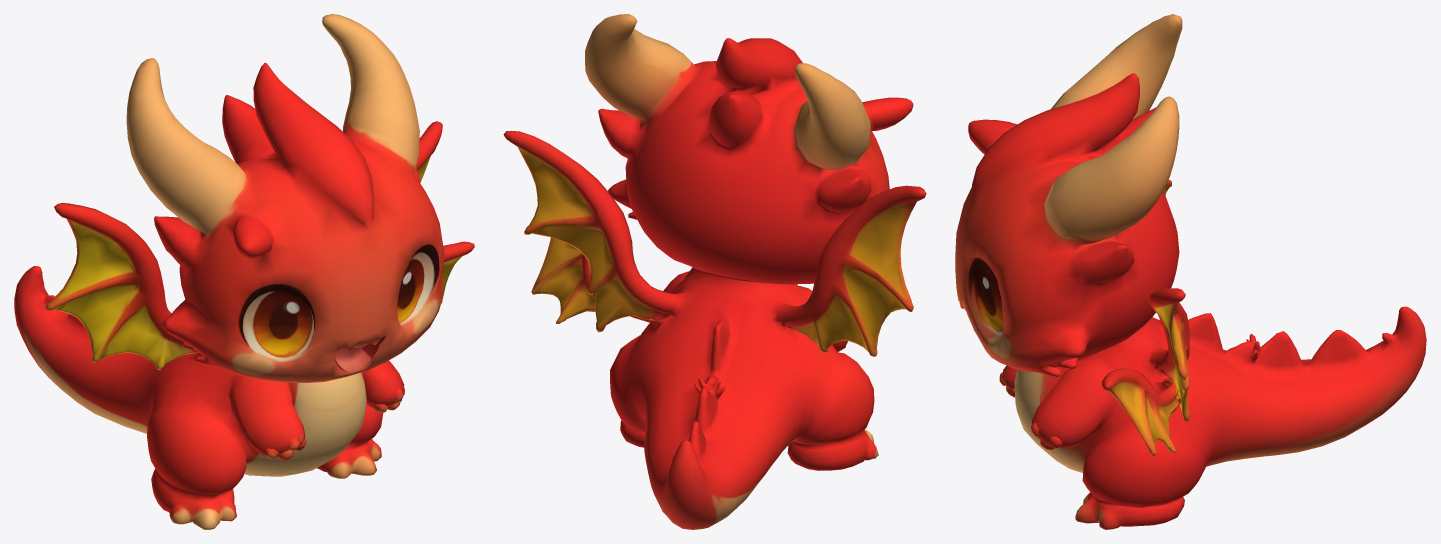
The model's file is avatar1.glb.
3 renders of one model, left to right at view 1: azimuth 30°, elevation 25°; view 2: azimuth 150°, elevation 25°; view 3: azimuth 270°, elevation 25°, orthographic.
Parts seen in each view (by area): view 1: tripo_node_9b387969-545e-4692-ae06-619c35626f4d; view 2: tripo_node_9b387969-545e-4692-ae06-619c35626f4d; view 3: tripo_node_9b387969-545e-4692-ae06-619c35626f4d.
Part boxes in pixels (<box>): tripo_node_9b387969-545e-4692-ae06-619c35626f4d: <box>14,14,474,529</box>; tripo_node_9b387969-545e-4692-ae06-619c35626f4d: <box>503,14,926,529</box>; tripo_node_9b387969-545e-4692-ae06-619c35626f4d: <box>955,14,1426,529</box>.
Bounding box in the file's own units: 0.9863 × 0.9941 × 0.998.
Materials: 1 (1 with a texture image).
